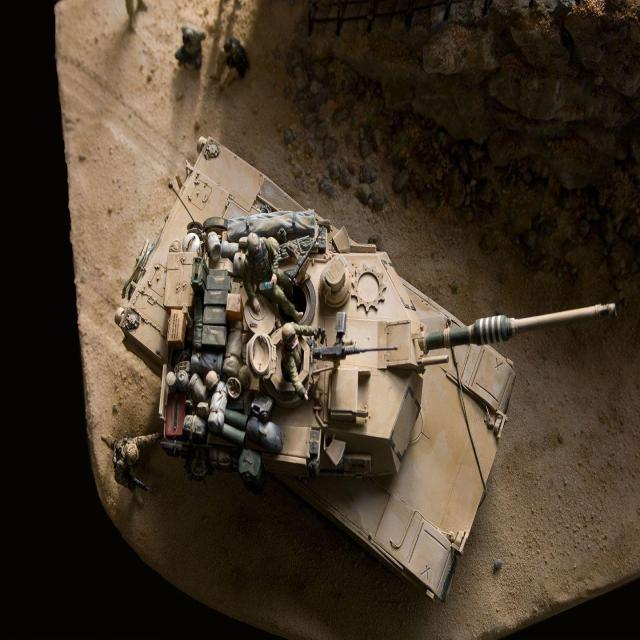Tanks: (120, 130, 504, 594)
